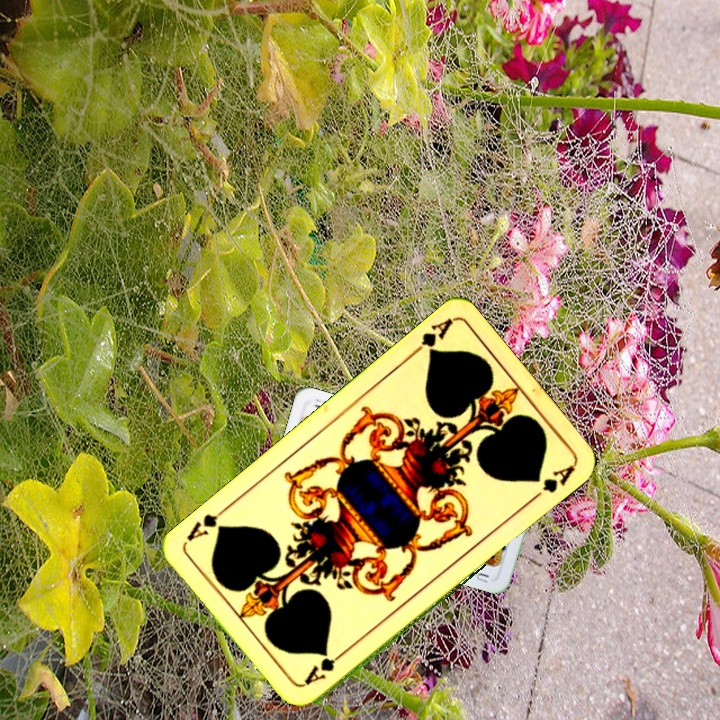GA: (405, 315, 455, 360), (299, 645, 350, 689)
